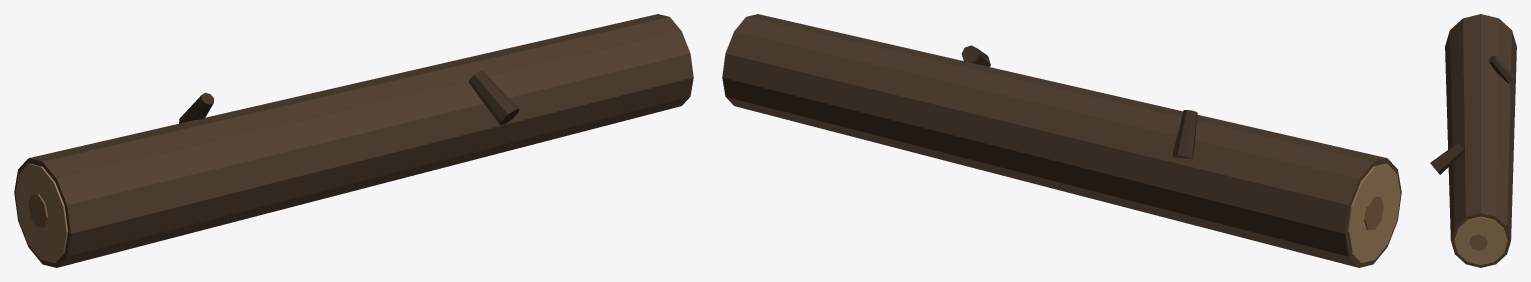
File: tronc.glb
3 renders of one model, left to right at view 1: azimuth 30°, elevation 25°; view 2: azimuth 150°, elevation 25°; view 3: azimuth 270°, elevation 25°, orthographic. The views are drawn at different scales.
Visible parts, largest first — view 1: trunk, end_butt, stub_a, stub_b, heart_butt; view 2: trunk, end_butt, stub_b, heart_butt, stub_a; view 3: trunk, end_top, stub_a, stub_b, heart_top.
Boxes of the visible parts, x1,y1,x2,y2 form: trunk: (14, 14, 693, 267); end_butt: (15, 163, 68, 262); stub_a: (468, 70, 519, 125); stub_b: (179, 92, 213, 123); heart_butt: (28, 194, 48, 227); trunk: (722, 14, 1401, 267); end_butt: (1347, 163, 1400, 262); stub_b: (1172, 110, 1197, 159); heart_butt: (1364, 196, 1383, 229); stub_a: (961, 45, 990, 66); trunk: (1445, 14, 1516, 267); end_top: (1454, 216, 1507, 265); stub_a: (1430, 142, 1465, 174); stub_b: (1488, 55, 1514, 83); heart_top: (1469, 234, 1487, 250).
Size of the model in its own units: 4 by 0.7275 by 0.7491.
Materials: 4 (4 with a texture image).
